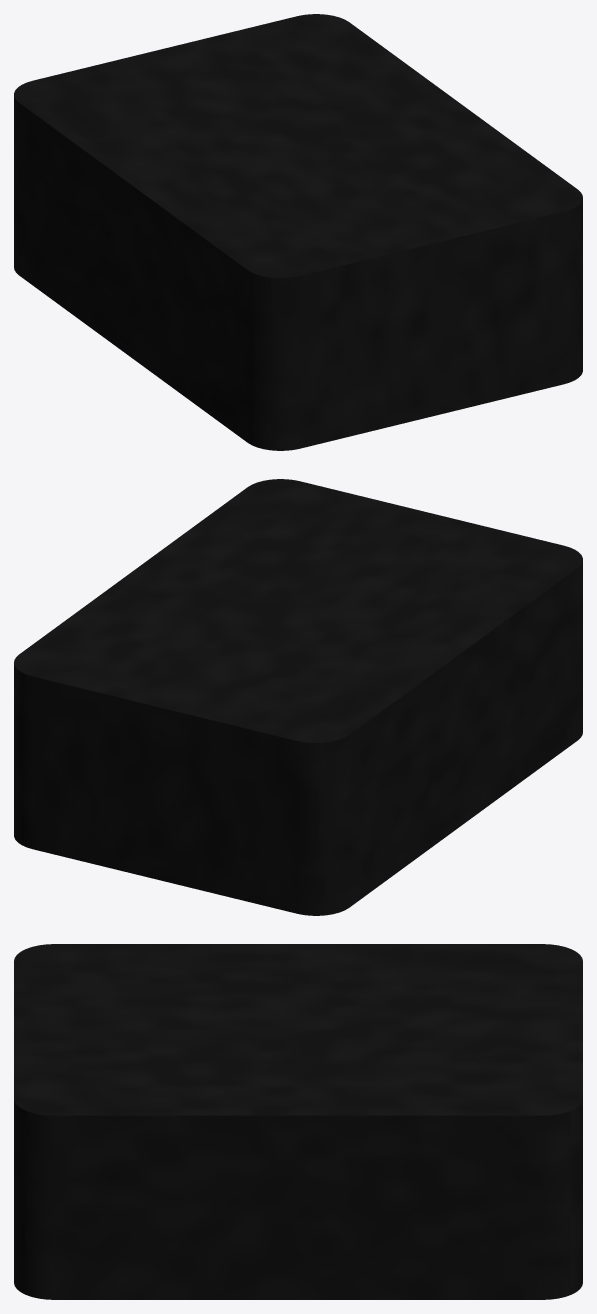
File: holodeck.fbx
3 renders of one model, top to bottom at view 1: azimuth 30°, elevation 25°; view 2: azimuth 150°, elevation 25°; view 3: azimuth 270°, elevation 25°, orthographic. The views are drawn at different scales.
Parts seen in each view (by area): view 1: Walls; view 2: Walls; view 3: Walls.
Boxes of the visible parts, x1=… form: Walls: x1=14, y1=14, x2=582, y2=450; Walls: x1=14, y1=479, x2=582, y2=915; Walls: x1=14, y1=944, x2=582, y2=1299.
Bounding box in the file's own units: 1000 × 500 × 1400.
